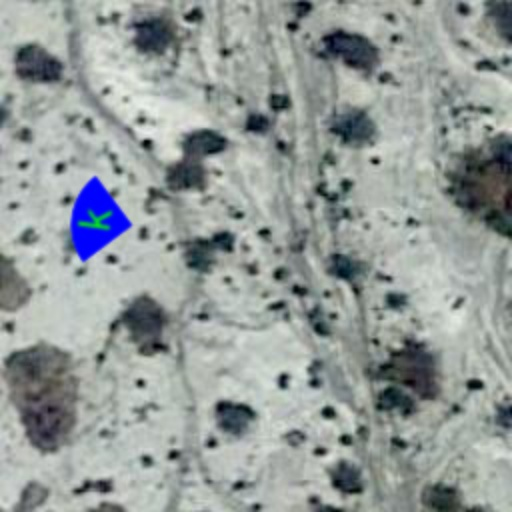quarter_circle: (48, 172, 144, 268)
